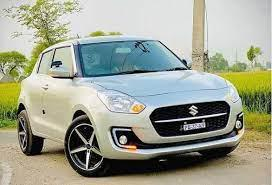Hatchback: (12, 35, 249, 175)
